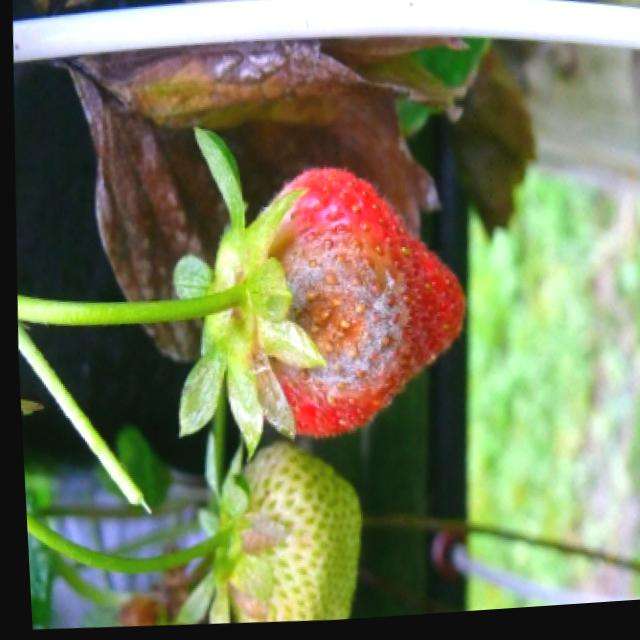Gray Mold: (245, 178, 439, 446)
